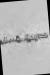O34: (2, 0, 49, 74)
